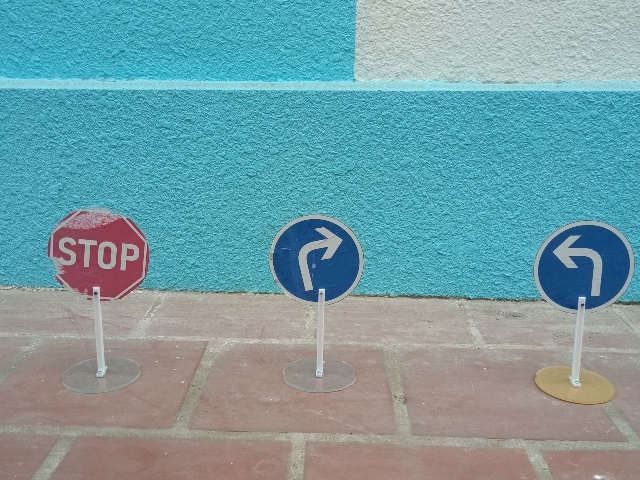Left_Sign: (533, 220, 635, 315)
Right_Sign: (269, 214, 364, 307)
Stop_Sign: (49, 206, 150, 301)
